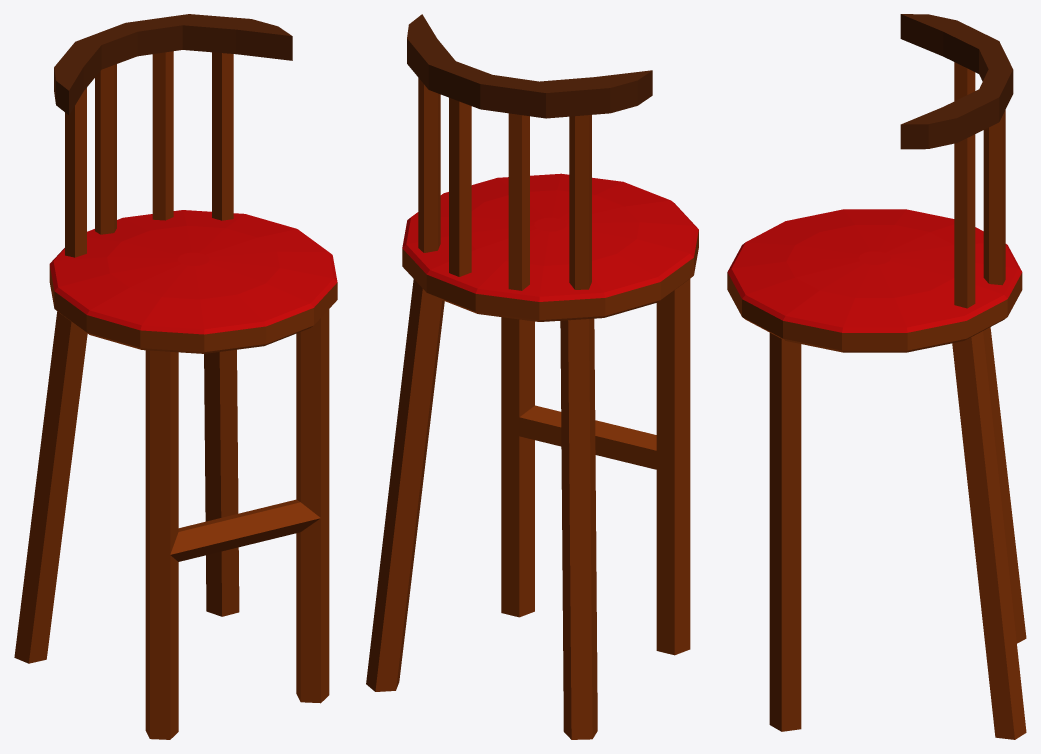
The model's file is bar_stool.fbx.
The picture shows the model from 3 angles, left to right: view 1: azimuth 30°, elevation 25°; view 2: azimuth 150°, elevation 25°; view 3: azimuth 270°, elevation 25°; orthographic projection. The views are drawn at different scales.
Parts seen in each view (by area): view 1: bar_stool; view 2: bar_stool; view 3: bar_stool.
Boxes of the visible parts, x1=… form: bar_stool: x1=14, y1=14, x2=337, y2=739; bar_stool: x1=366, y1=14, x2=698, y2=739; bar_stool: x1=727, y1=14, x2=1026, y2=739.
Bounding box in the file's own units: 53.62 × 127 × 55.77.
